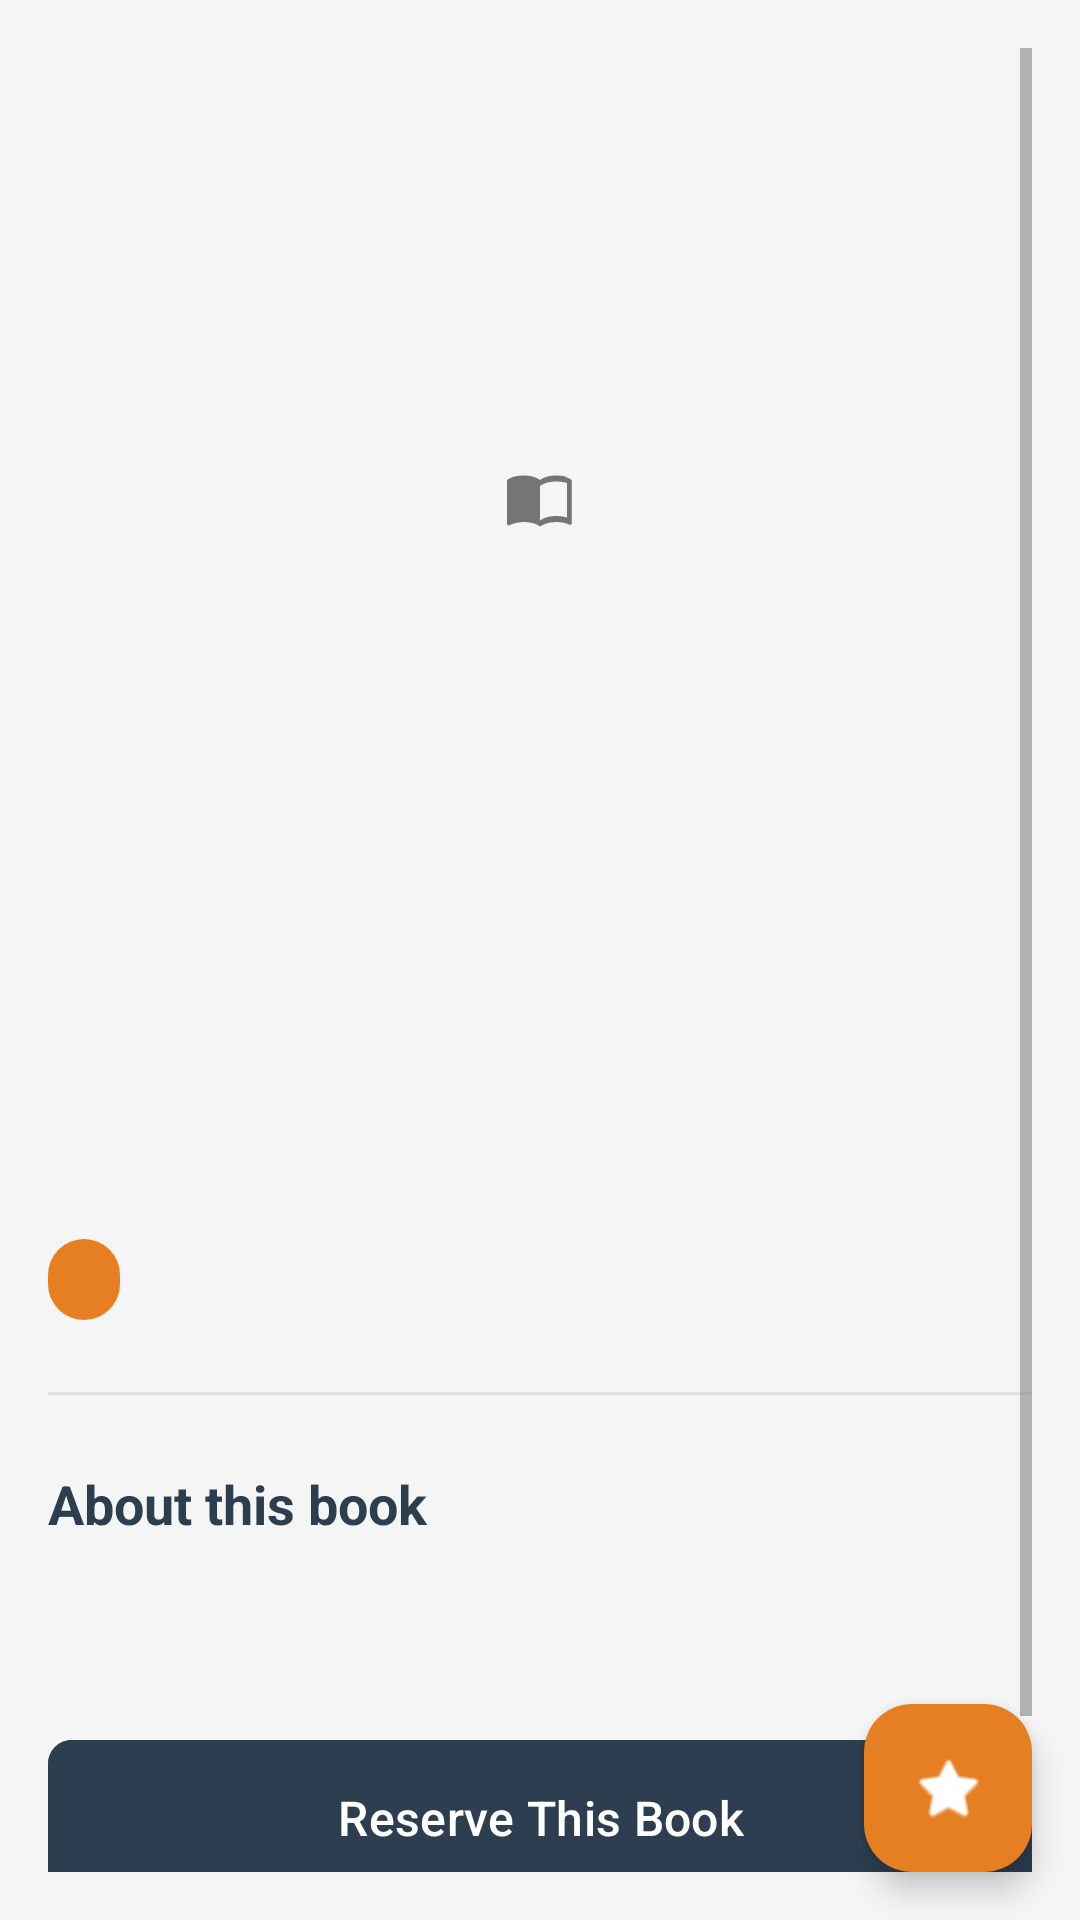

Where to tap for icons on this 1080w x 1920h app screen, as (x=x, y=y):
star off: (x=948, y=1788)
